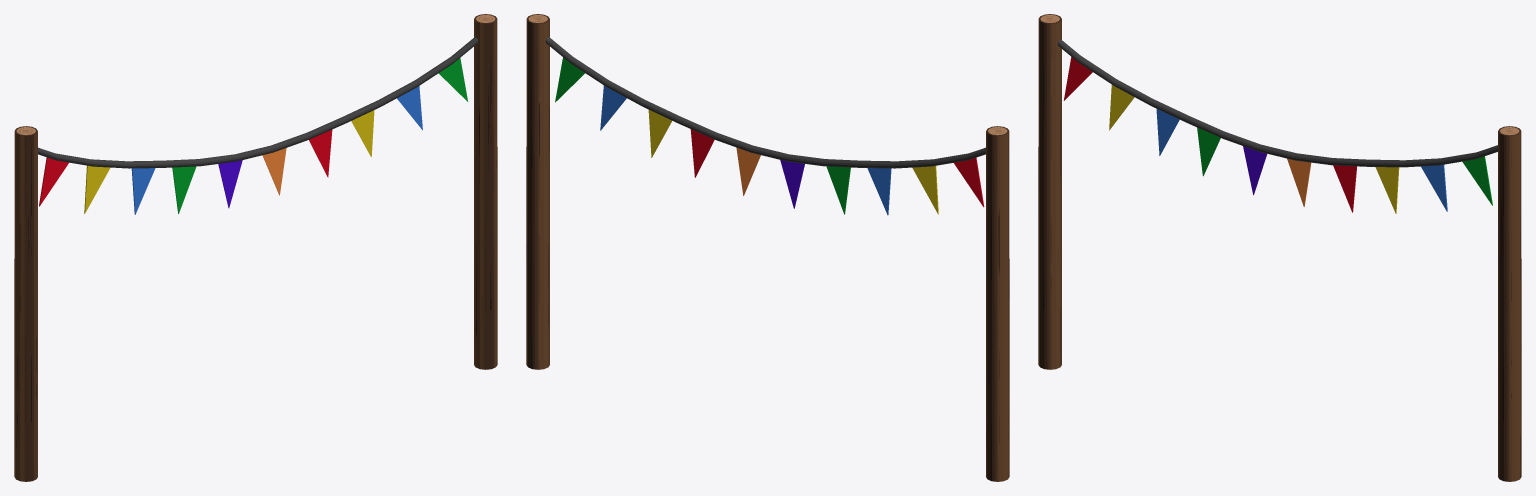
The model's file is Banderines.fbx.
The picture shows the model from 3 angles, left to right: view 1: azimuth 30°, elevation 25°; view 2: azimuth 150°, elevation 25°; view 3: azimuth 330°, elevation 25°; orthographic projection.
Parts seen in each view (by area): view 1: Circle.003; view 2: Circle.003; view 3: Circle.003.
Boxes of the visible parts, x1,y1,x2,y2 form: Circle.003: (14,14,497,481); Circle.003: (526,14,1009,481); Circle.003: (1038,14,1521,481).
Size of the model in its own units: 3697 by 157 by 2546.
8 materials, 1 textured.
